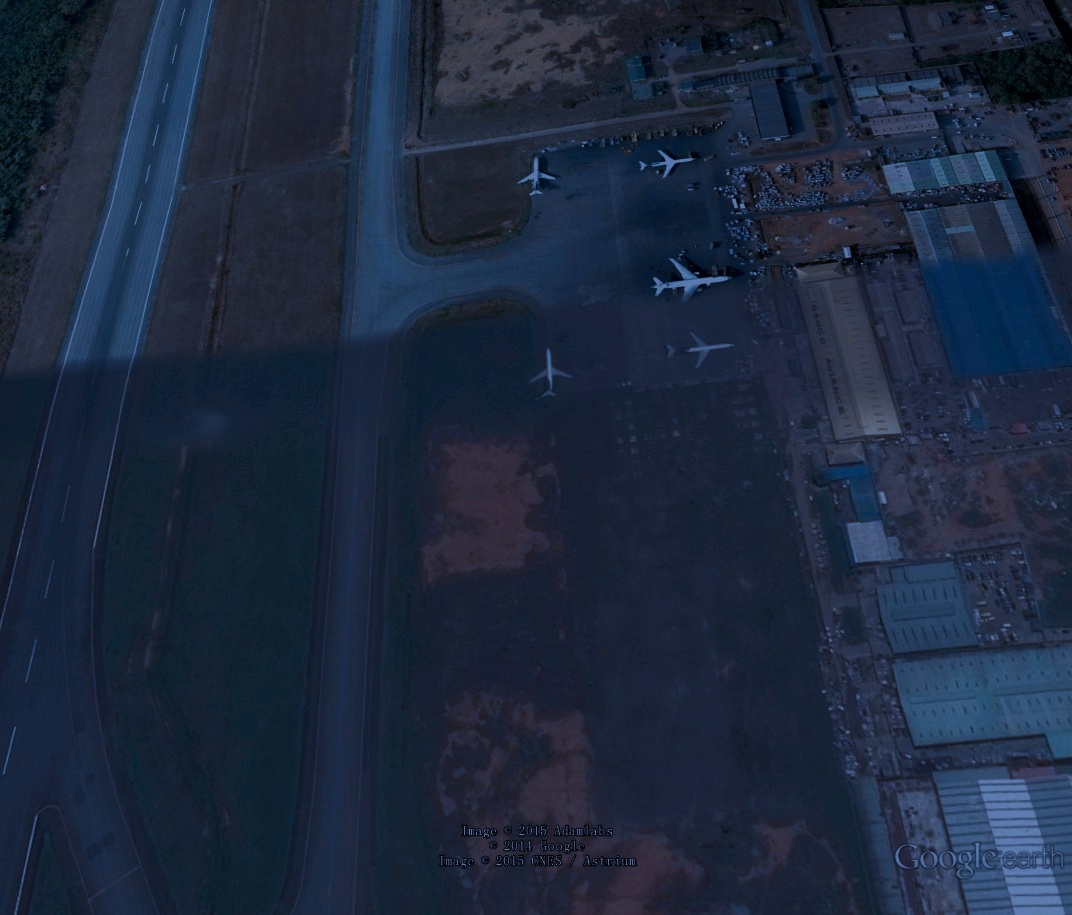aircraft: (645, 250, 736, 316), (660, 325, 741, 375), (526, 343, 577, 405), (634, 147, 700, 190), (516, 151, 558, 199)
